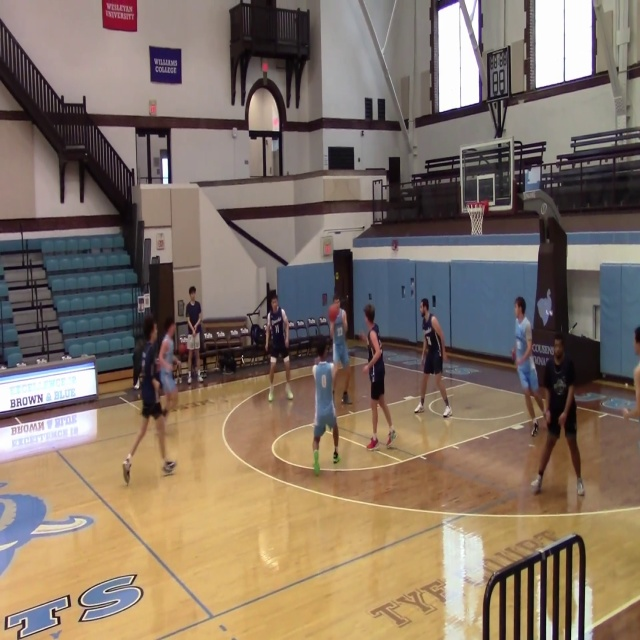Basketball: (328, 304, 339, 322), (177, 343, 187, 356)
